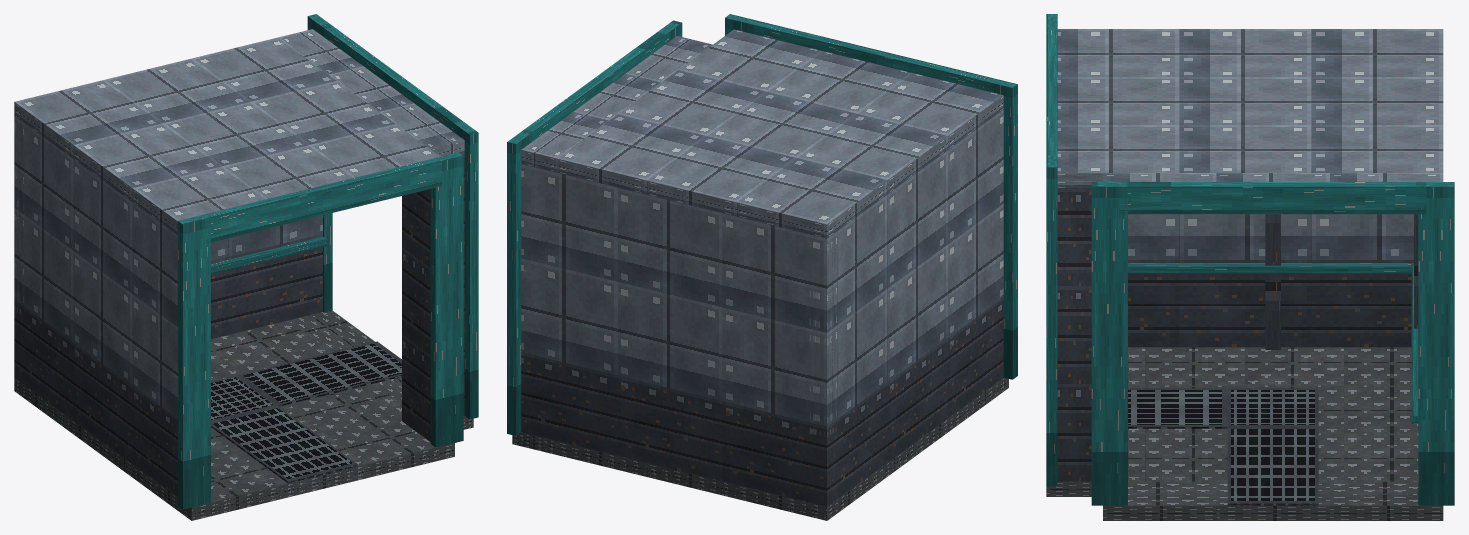
File: corridor_corner_4m.glb
The picture shows the model from 3 angles, left to right: view 1: azimuth 30°, elevation 25°; view 2: azimuth 150°, elevation 25°; view 3: azimuth 270°, elevation 25°; orthographic projection. The views are drawn at different scales.
Visible parts, largest first — view 1: corridor_corner_4m; view 2: corridor_corner_4m; view 3: corridor_corner_4m.
Boxes of the visible parts, x1,y1,x2,y2 form: corridor_corner_4m: [14, 14, 478, 520]; corridor_corner_4m: [507, 14, 1017, 520]; corridor_corner_4m: [1046, 14, 1454, 520].
Size of the model in its own units: 3.6 by 3.25 by 3.6.
Materials: 1 (1 with a texture image).
